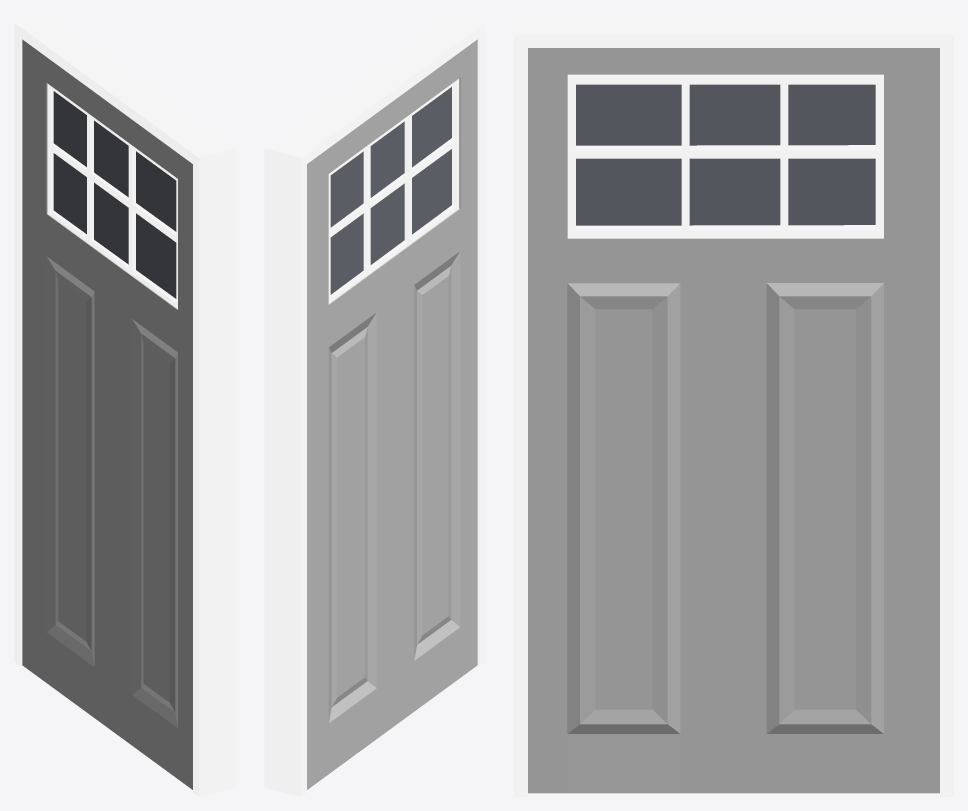
Rendered from 6_lite_walkin.765131a9.gltf.
3 views of the same model, side by side, from view 1: azimuth 30°, elevation 25°; view 2: azimuth 150°, elevation 25°; view 3: azimuth 270°, elevation 25° (orthographic). The views are drawn at different scales.
Visible parts, largest first — view 1: door, trims, Glass, glass_trim; view 2: door, trims, Glass, glass_trim; view 3: door, Glass, trims, glass_trim.
Boxes of the visible parts, left/top/right/bottom form: door: left=22, top=39, right=192, bottom=789; trims: left=14, top=14, right=235, bottom=796; Glass: left=53, top=91, right=176, bottom=298; glass_trim: left=47, top=84, right=177, bottom=308; door: left=307, top=39, right=477, bottom=789; trims: left=264, top=14, right=485, bottom=796; Glass: left=330, top=87, right=451, bottom=294; glass_trim: left=328, top=78, right=459, bottom=303; door: left=528, top=48, right=939, bottom=793; Glass: left=576, top=84, right=875, bottom=225; trims: left=514, top=14, right=953, bottom=796; glass_trim: left=567, top=74, right=883, bottom=238.
Size of the model in its own units: 0.361 by 6.01 by 3.14.
3 materials, 1 textured.
